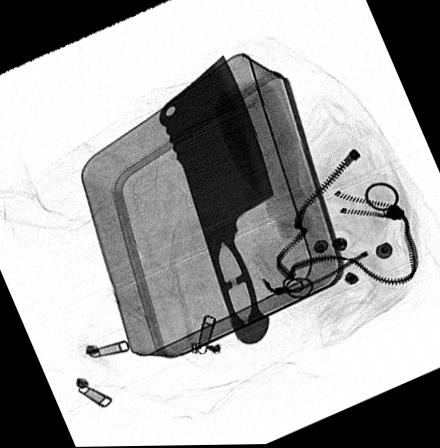Knife: (158, 54, 275, 346)
